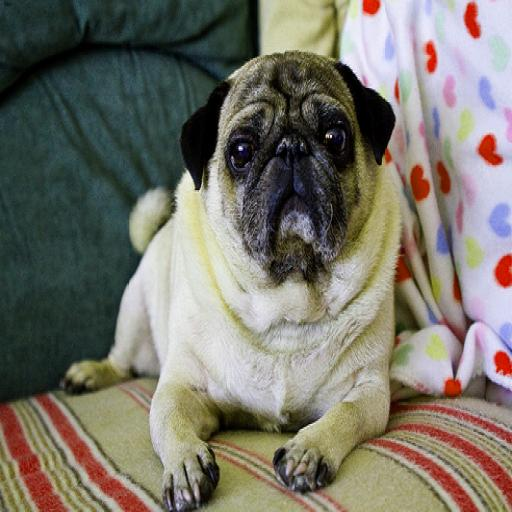dog_face: (181, 48, 399, 287)
